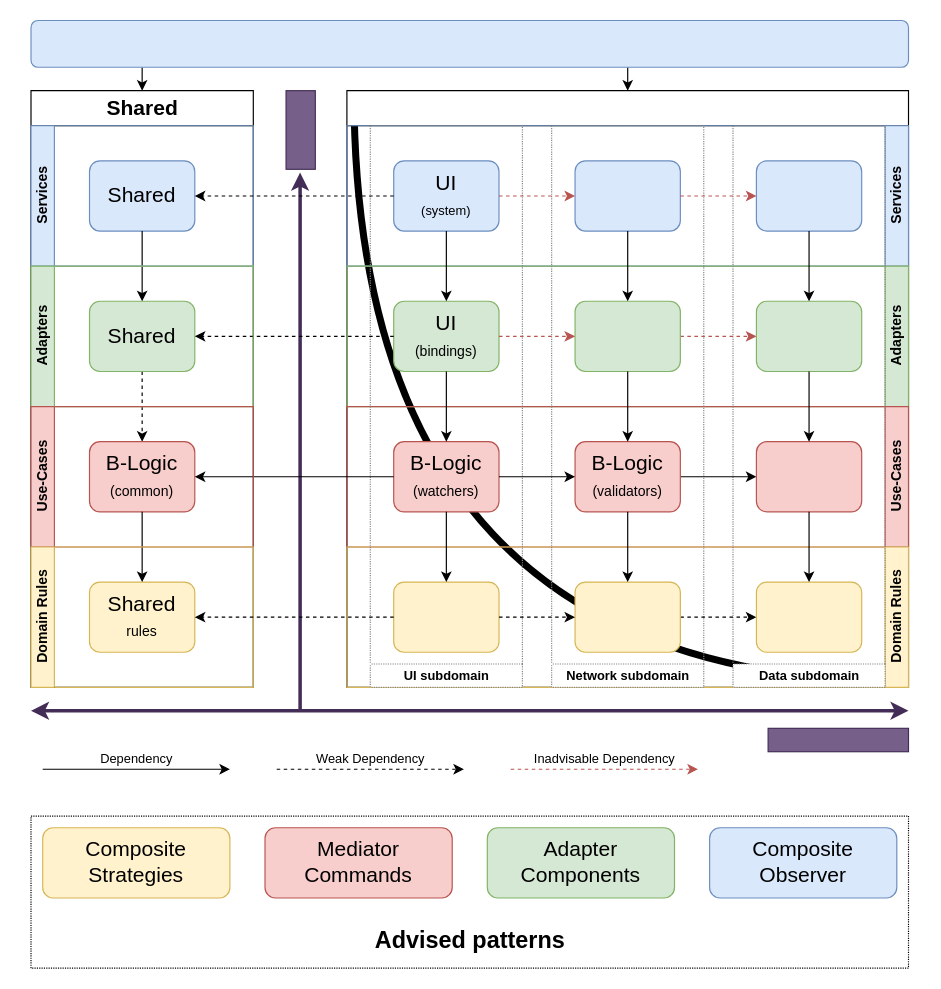
Image size: 941x989. Some labels were removed from this diagram. The box of each missing label's shape, as (x1, y1, x2, y2) in pixels:
Activity: (285, 90, 315, 169)
Adapter (interceptors): (574, 300, 680, 371)
API (client+proto): (574, 160, 680, 231)
Application Runtime: (30, 19, 909, 67)
B-Logic (CRUDs): (755, 441, 862, 512)
Data storage rules: (755, 581, 862, 652)
Feature (Domain): (346, 90, 909, 687)
Generalization: (767, 727, 909, 752)
Interface (bindings): (755, 300, 862, 371)
Network rules: (574, 581, 680, 652)
Storage (persist+cache): (755, 160, 862, 231)
UX rules: (393, 581, 499, 652)
